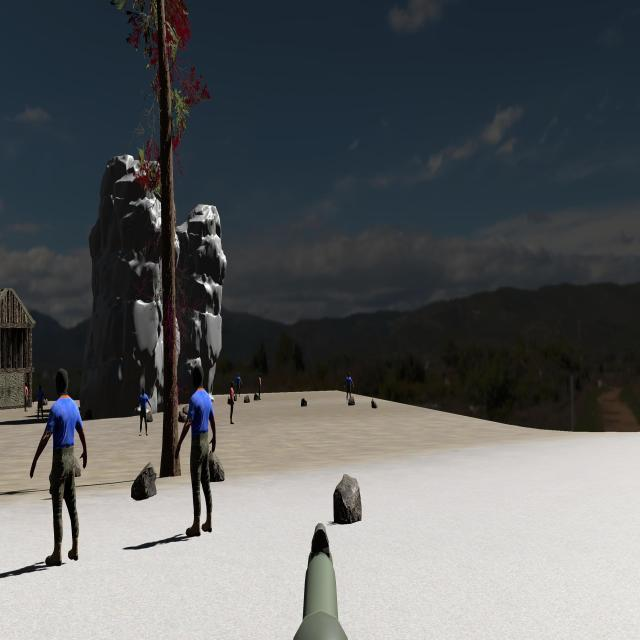Human: (30, 368, 87, 565), (176, 364, 216, 535), (135, 386, 152, 437)
